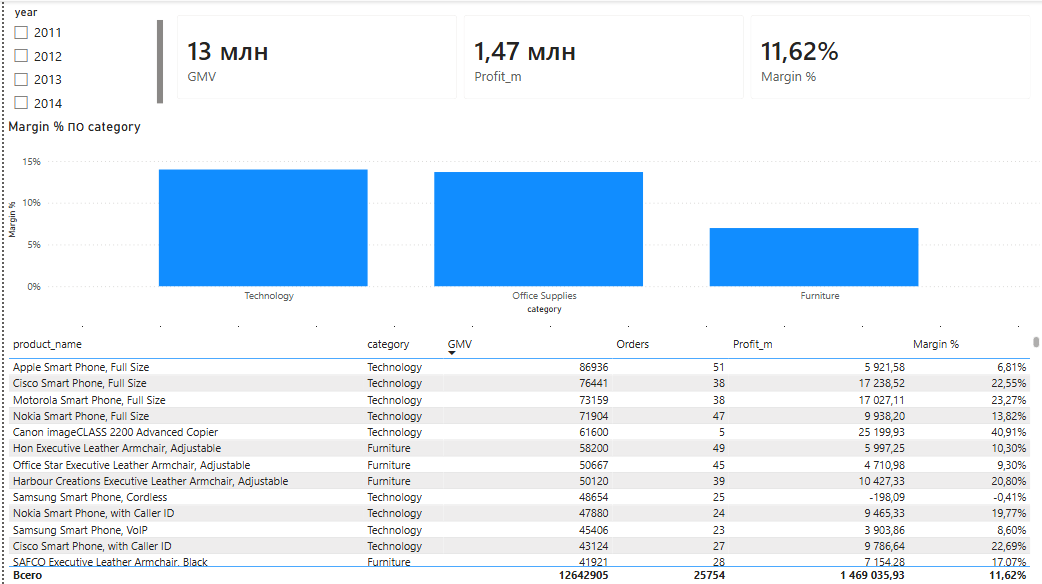

The page's visual inventory and layout, read from the dashboard file:
{"tool":"powerbi","page":{"name":"Products","canvas":[1280,720],"ordinal":2},"visuals":[{"type":"cardVisual","fields":{"Data":["superstore clean_orders.GMV","superstore clean_orders.Profit_m","superstore clean_orders.Margin %"]},"box":[195.1,0,1085.2,138.8],"z":0},{"type":"slicer","fields":{"Values":["superstore clean_orders.year"]},"box":[0,0,201.4,143],"z":1},{"type":"clusteredColumnChart","fields":{"Category":["superstore clean_orders.category"],"Y":["superstore clean_orders.Margin %"]},"box":[0,142.8,1280.3,247.3],"z":2},{"type":"tableEx","fields":{"Values":["superstore clean_orders.product_name","superstore clean_orders.category","superstore clean_orders.GMV","superstore clean_orders.Orders","superstore clean_orders.Profit_m","superstore clean_orders.Margin %"]},"box":[0,407,1280.3,313],"z":3}]}

Visuals, with their boxes in screenshot pixels (x1, y1, x2, y2), scaled from the page's 1280x720 canvas onto the 1042x584 screenshot:
cardVisual - superstore clean_orders.GMV x superstore clean_orders.Profit_m: l=159, t=0, r=1041, b=113
slicer - superstore clean_orders.year: l=0, t=0, r=164, b=116
clusteredColumnChart - superstore clean_orders.category x superstore clean_orders.Margin %: l=0, t=116, r=1041, b=316
tableEx - superstore clean_orders.product_name x superstore clean_orders.category: l=0, t=330, r=1041, b=583
